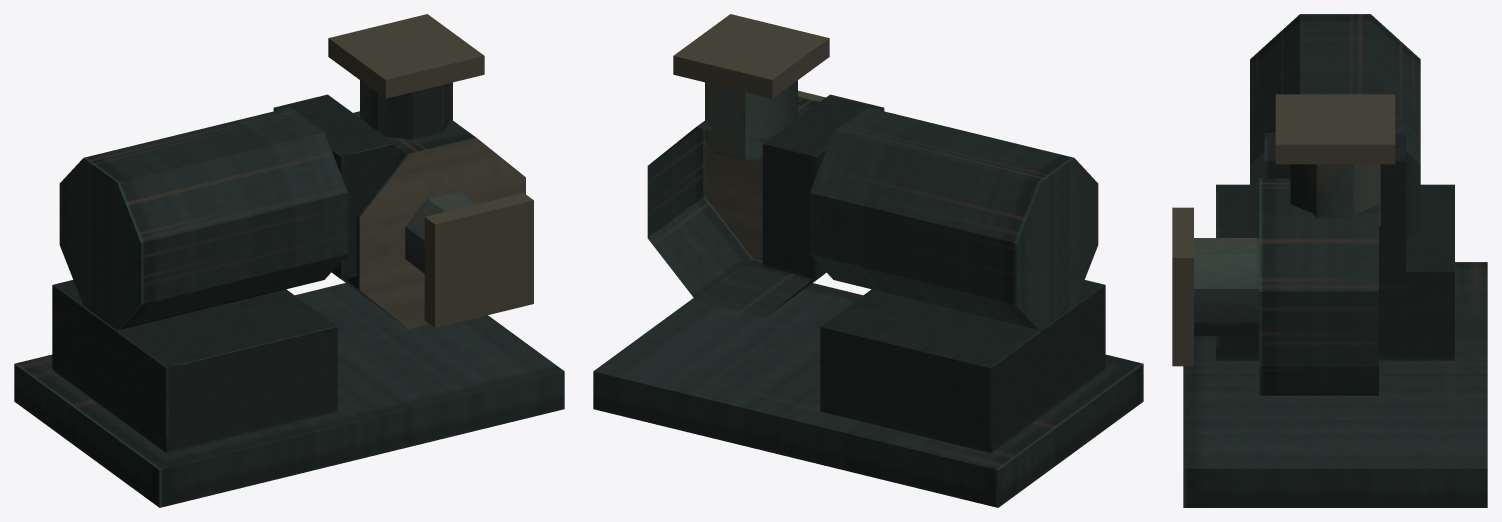
The model's file is SM_MachProp_Pump_Floor_90x60x70.fbx.
3 views of the same model, side by side, from view 1: azimuth 30°, elevation 25°; view 2: azimuth 150°, elevation 25°; view 3: azimuth 270°, elevation 25° (orthographic). The views are drawn at different scales.
Parts seen in each view (by area): view 1: SM_MachProp_Pump_Floor_90x60x70.001; view 2: SM_MachProp_Pump_Floor_90x60x70.001; view 3: SM_MachProp_Pump_Floor_90x60x70.001.
Boxes of the visible parts, box(x1,y1,x2,y2) form: SM_MachProp_Pump_Floor_90x60x70.001: box(14, 14, 564, 507); SM_MachProp_Pump_Floor_90x60x70.001: box(593, 14, 1143, 507); SM_MachProp_Pump_Floor_90x60x70.001: box(1172, 14, 1487, 507).
Bounding box in the file's own units: 0.9 × 0.7 × 0.58.
